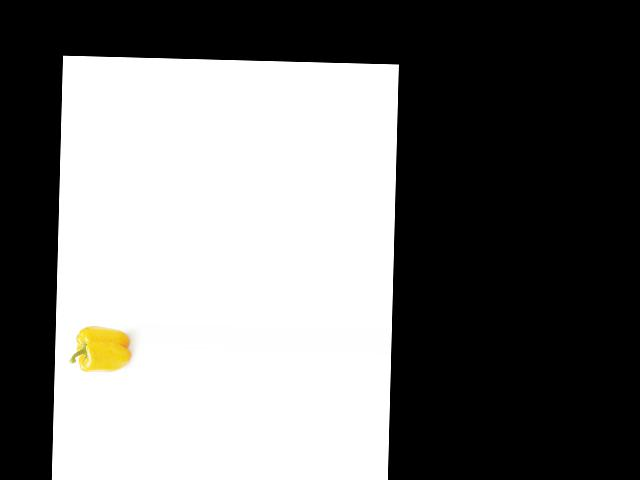bell_pepper: (66, 324, 132, 379)
